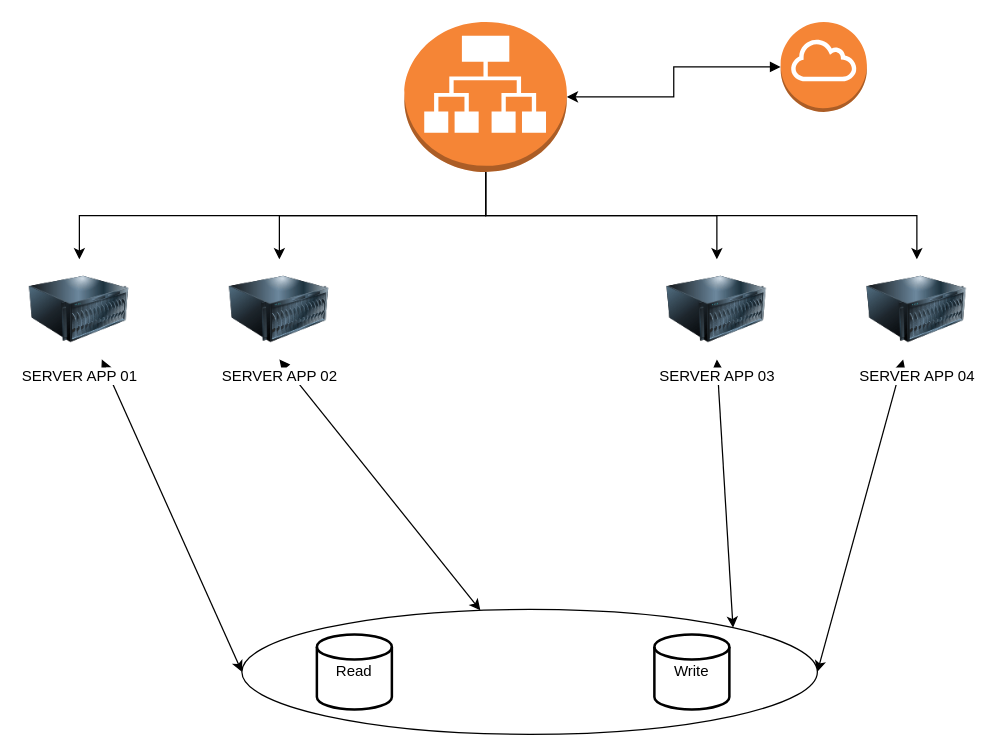
The diagram is 995 pixels wide and 756 high, and some of its shapes have lost their labels. Here are the shapes that lost their labels. From the top down, the box of each, then its label:
(403, 21, 567, 172): LOAD BALANCER
(241, 608, 817, 734): Cluster DB
